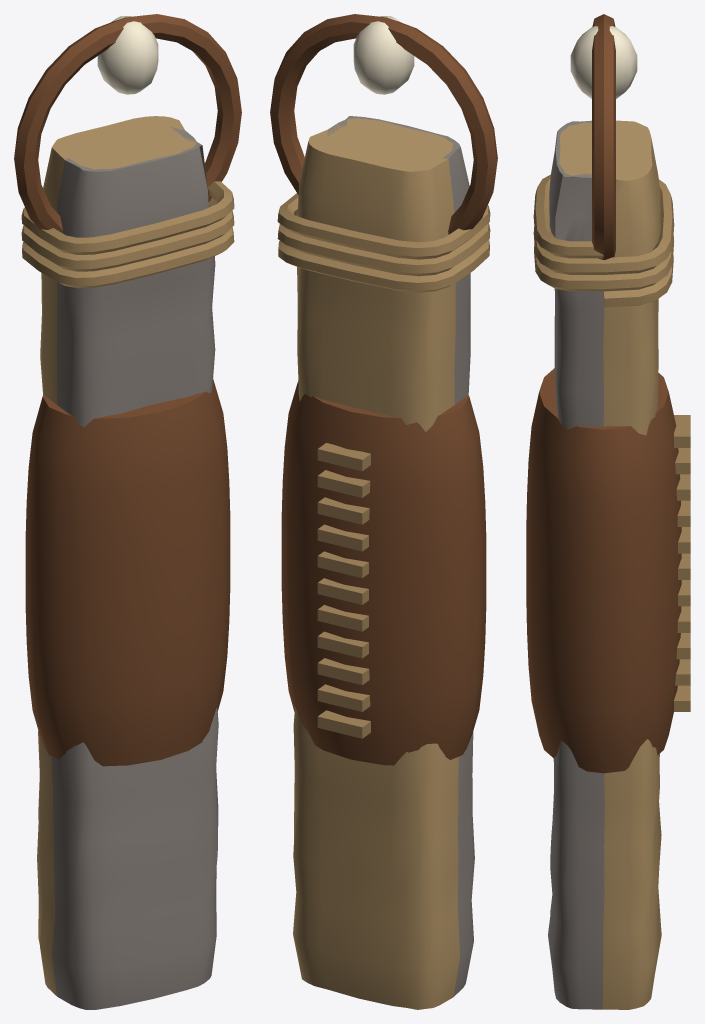
The model's file is tool_whetstone.fbx.
The picture shows the model from 3 angles, left to right: view 1: azimuth 30°, elevation 25°; view 2: azimuth 150°, elevation 25°; view 3: azimuth 270°, elevation 25°; orthographic projection.
Parts seen in each view (by area): view 1: Tool_Whetstone_Stone, Tool_Whetstone_Holder, Tool_Whetstone_Lanyard; view 2: Tool_Whetstone_Stone, Tool_Whetstone_Holder, Tool_Whetstone_Lanyard; view 3: Tool_Whetstone_Holder, Tool_Whetstone_Stone, Tool_Whetstone_Lanyard.
Part boxes in pixels (box(x1,y1,x2,y2)): Tool_Whetstone_Stone: box(37, 116, 218, 1009); Tool_Whetstone_Holder: box(25, 379, 230, 766); Tool_Whetstone_Lanyard: box(14, 14, 241, 288); Tool_Whetstone_Stone: box(293, 116, 474, 1009); Tool_Whetstone_Holder: box(281, 381, 486, 765); Tool_Whetstone_Lanyard: box(270, 14, 497, 292); Tool_Whetstone_Holder: box(526, 368, 690, 773); Tool_Whetstone_Stone: box(548, 120, 661, 1009); Tool_Whetstone_Lanyard: box(533, 14, 674, 307).
Size of the model in its own units: 7.08 by 28.79 by 4.51.
